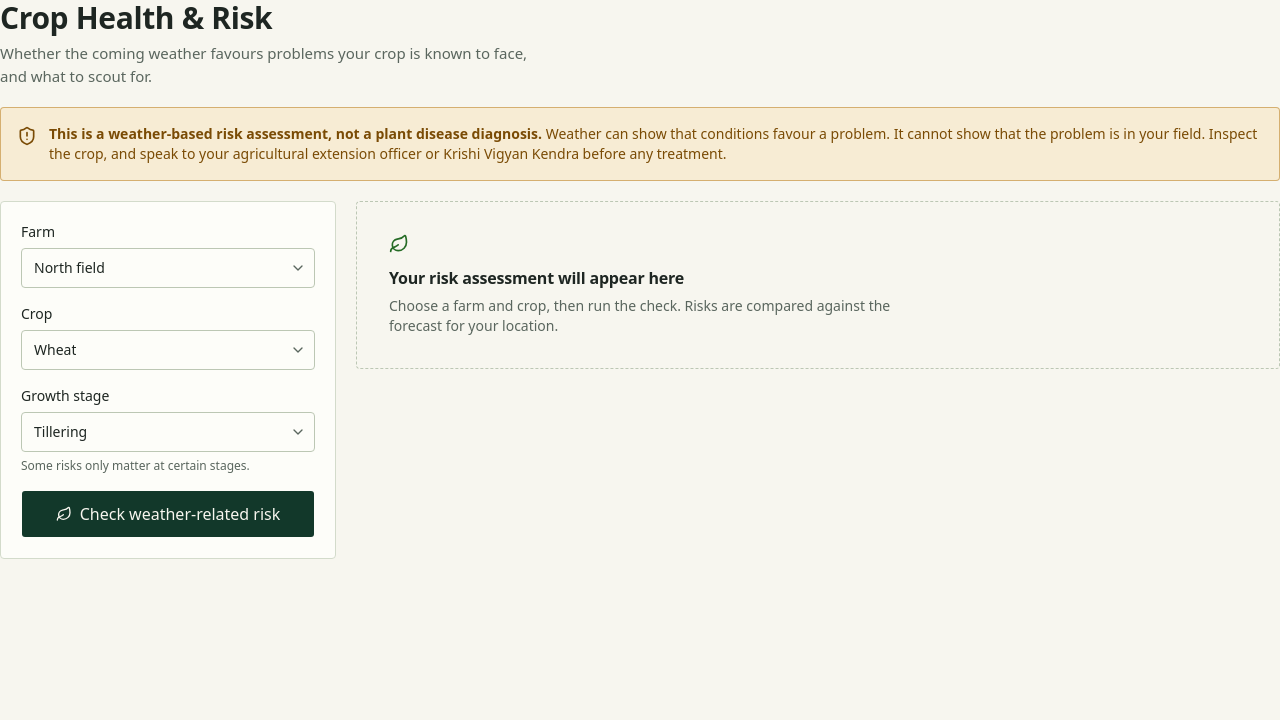
Test case: CropHealthPage › presents risk as favourable conditions, with what to scout for
Click the button "Check weather-related risk" at (168,514), box [21,490,315,538]
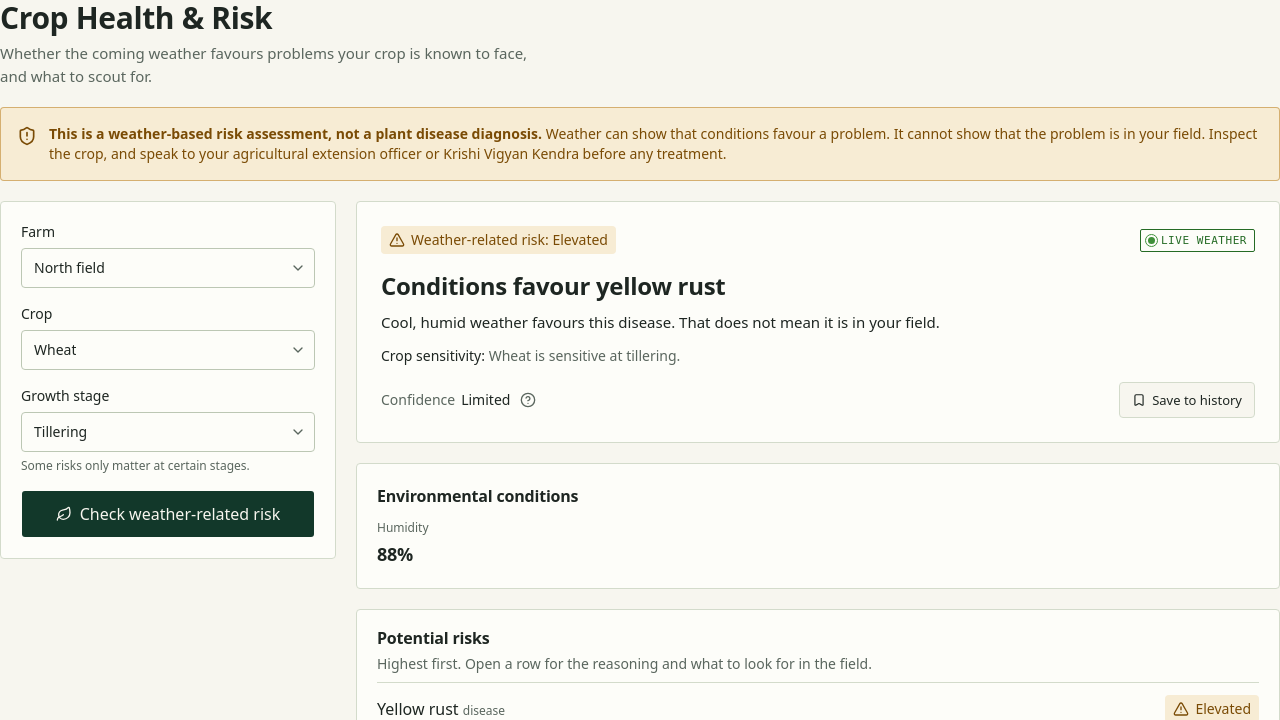
expect the element with test id "diagnosis-disclaimer" is shown: met, box [0,107,1279,181]
expect the text "Yellow rust" is shown: met, box [377,698,459,719]
expect the text "does not mean it is in your field" is shown: met, box [381,312,940,332]
